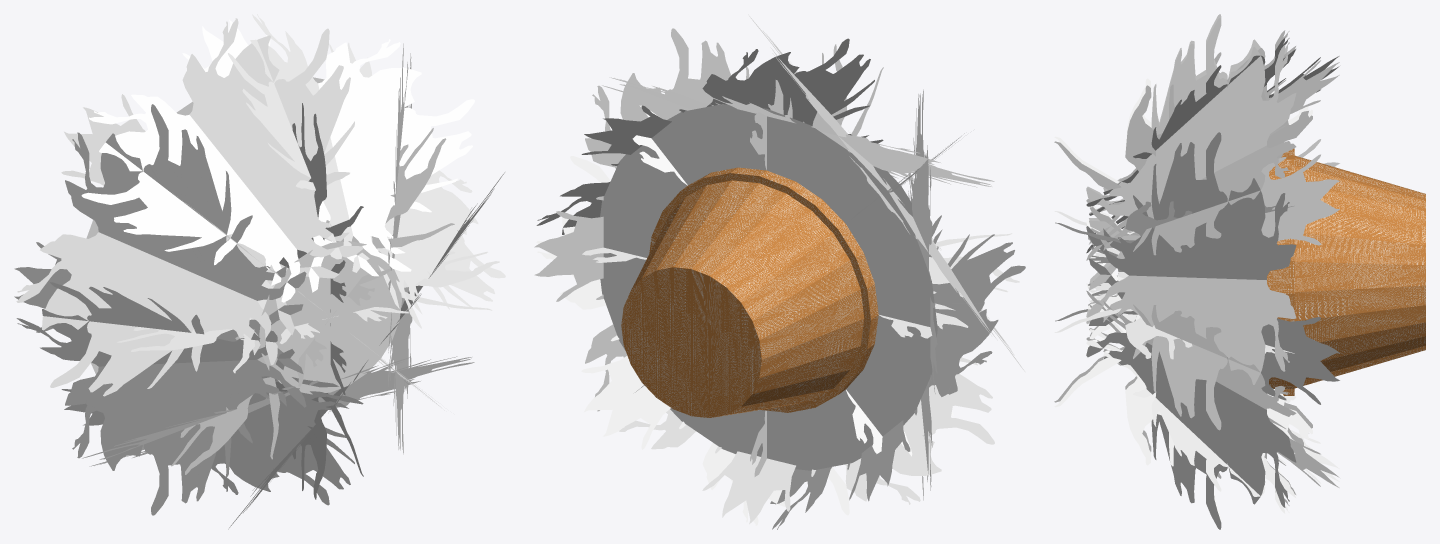
3 renders of one model, left to right at view 1: azimuth 30°, elevation 25°; view 2: azimuth 150°, elevation 25°; view 3: azimuth 270°, elevation 25°, orthographic. The views are drawn at different scales.
Visible parts, largest first — view 1: plant; view 2: plant; view 3: plant.
Boxes of the visible parts, x1,y1,x2,y2 form: plant: (14,14,505,529); plant: (534,14,1025,529); plant: (1054,14,1425,529).
Bounding box in the file's own units: 114 × 114 × 83.69.
